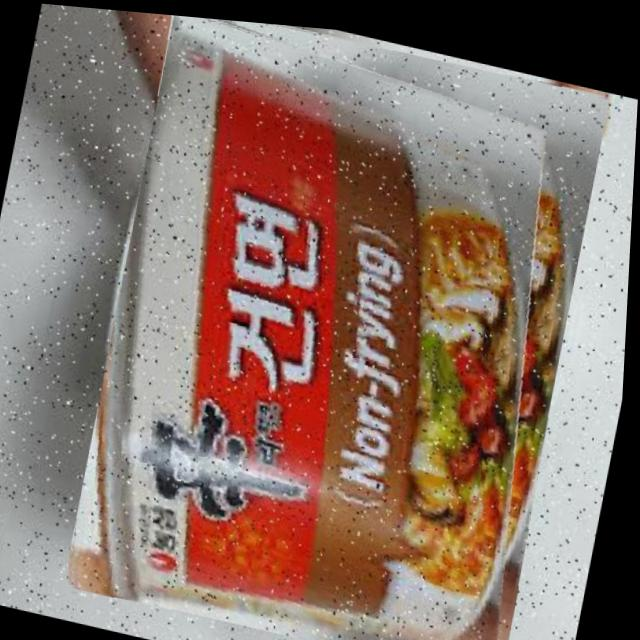Miscellaneous: (67, 7, 614, 640)
